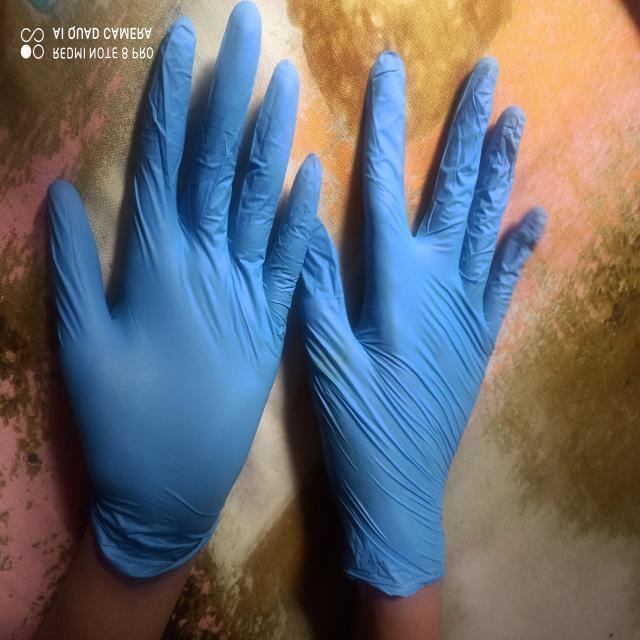gloved_hand: (36, 0, 324, 584), (292, 46, 552, 604)
